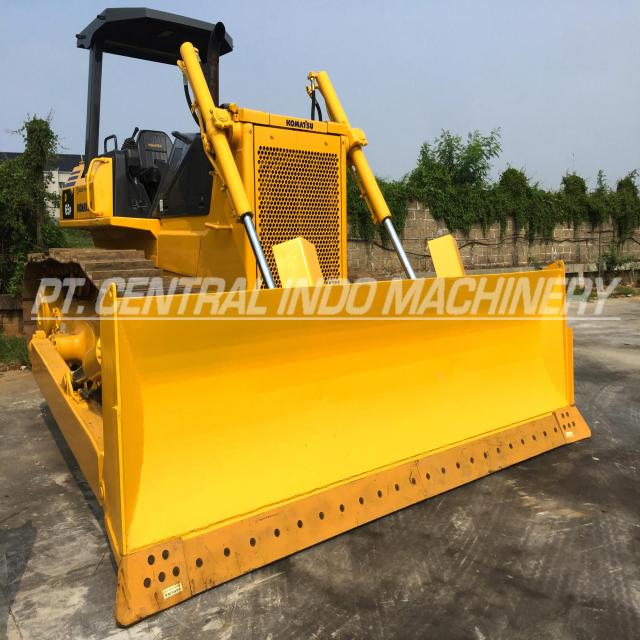buldozerpayloadergrader: (29, 7, 619, 625)
